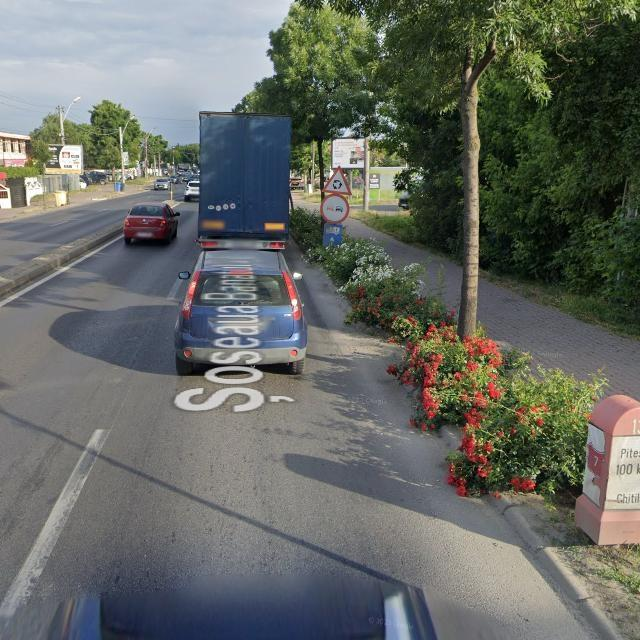forb_overtake: (321, 195, 350, 225)
